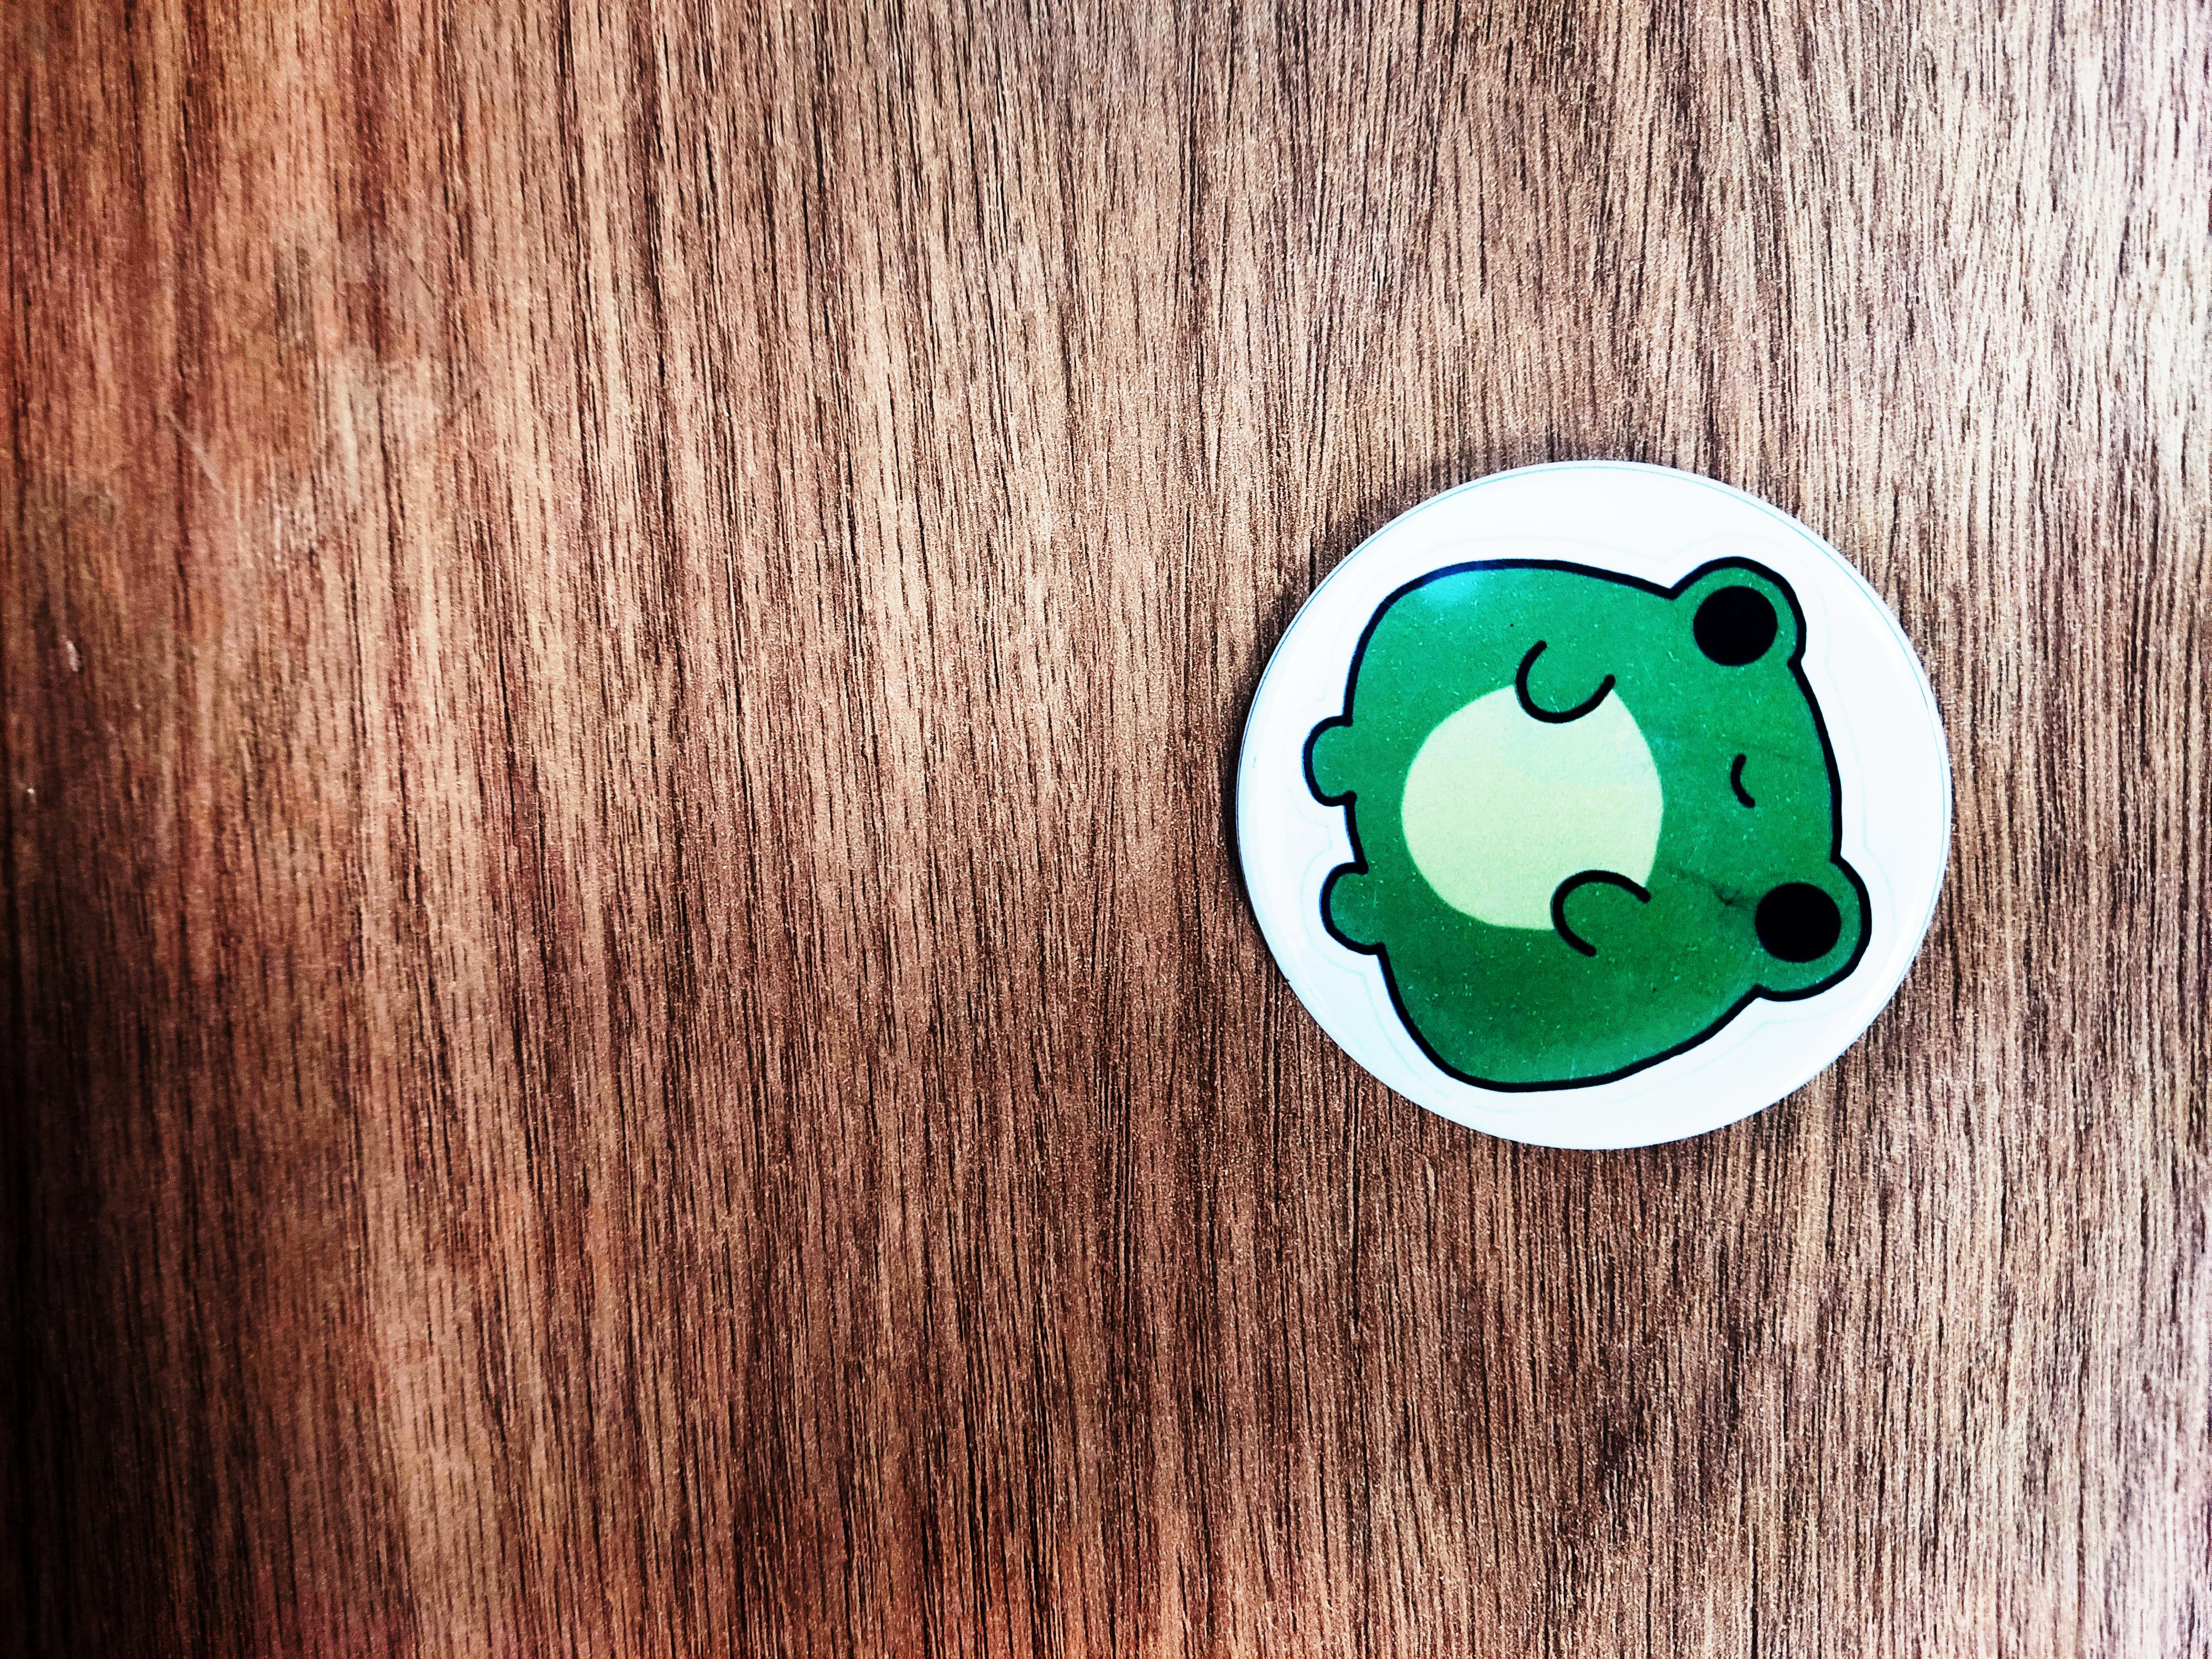pin: (1176, 413, 1984, 1168)
